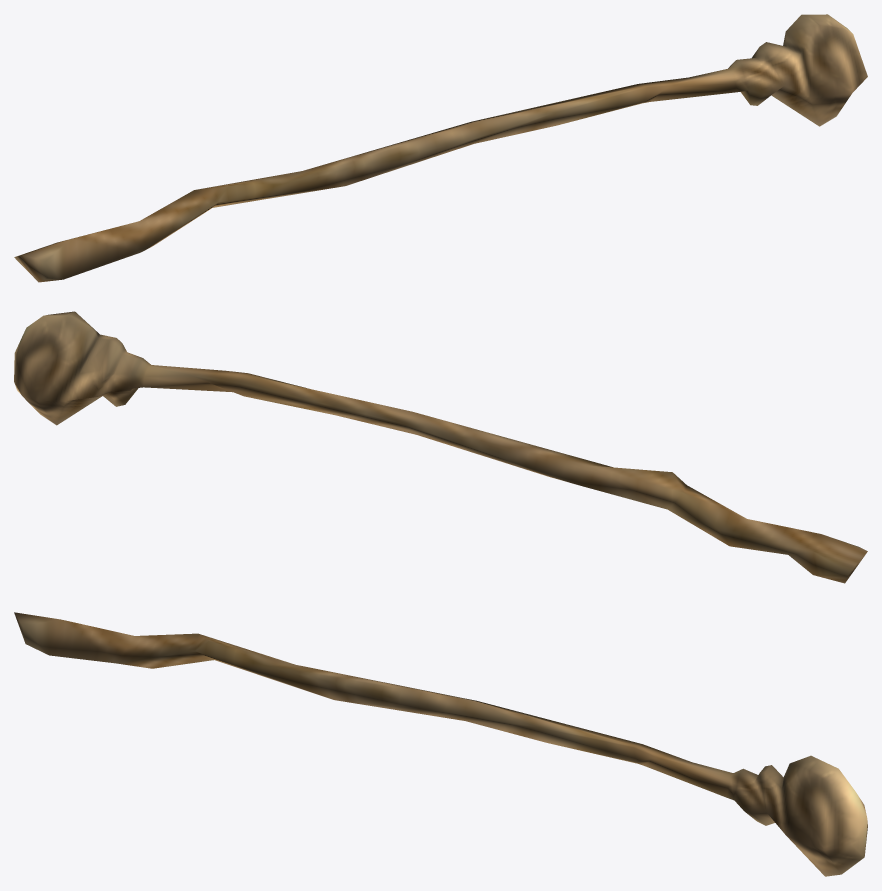
Rendered from GAND_STAFF.fbx.
3 renders of one model, top to bottom at view 1: azimuth 30°, elevation 25°; view 2: azimuth 150°, elevation 25°; view 3: azimuth 330°, elevation 25°, orthographic.
Parts seen in each view (by area): view 1: GAND_STAFF; view 2: GAND_STAFF; view 3: GAND_STAFF.
Boxes of the visible parts, <box> form: GAND_STAFF: <box>14,14,867,282</box>; GAND_STAFF: <box>14,311,867,583</box>; GAND_STAFF: <box>14,612,867,876</box>.
Bounding box in the file's own units: 19740 × 2573 × 1495.
1 material, 1 textured.
